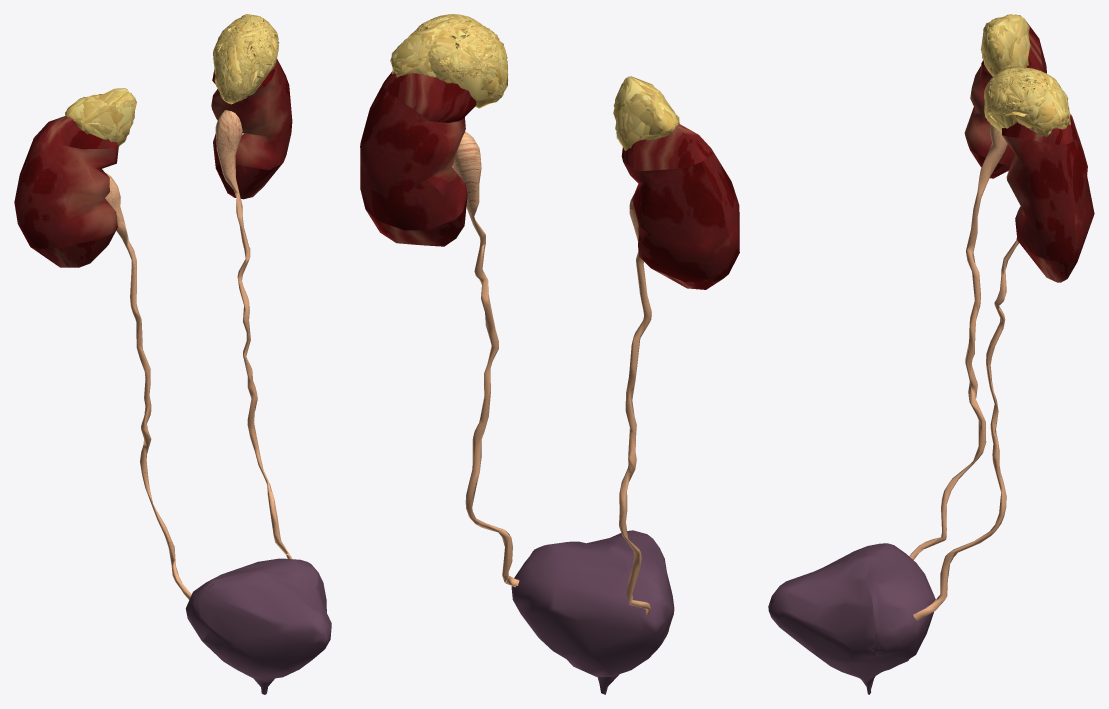
The model's file is adrenal.glb.
The picture shows the model from 3 angles, left to right: view 1: azimuth 30°, elevation 25°; view 2: azimuth 150°, elevation 25°; view 3: azimuth 270°, elevation 25°; orthographic projection. The views are drawn at different scales.
Parts seen in each view (by area): view 1: L_Kidney_Kidney_0, Bladder_1_Bladder_0, R_Gland_Glands_0, L_Ureter_Ureters_0; view 2: L_Kidney_Kidney_0, Bladder_1_Bladder_0, R_Gland_Glands_0, L_Ureter_Ureters_0; view 3: Bladder_1_Bladder_0, L_Kidney_Kidney_0, R_Gland_Glands_0, L_Ureter_Ureters_0.
Boxes of the visible parts, left/top/right/bottom form: L_Kidney_Kidney_0: left=14, top=59, right=292, bottom=267; Bladder_1_Bladder_0: left=185, top=558, right=331, bottom=694; R_Gland_Glands_0: left=65, top=14, right=279, bottom=146; L_Ureter_Ureters_0: left=105, top=110, right=292, bottom=599; L_Kidney_Kidney_0: left=360, top=72, right=739, bottom=289; Bladder_1_Bladder_0: left=511, top=530, right=674, bottom=694; R_Gland_Glands_0: left=390, top=14, right=679, bottom=150; L_Ureter_Ureters_0: left=452, top=131, right=651, bottom=615; Bladder_1_Bladder_0: left=768, top=543, right=935, bottom=694; L_Kidney_Kidney_0: left=964, top=22, right=1094, bottom=282; R_Gland_Glands_0: left=980, top=14, right=1070, bottom=136; L_Ureter_Ureters_0: left=909, top=124, right=1018, bottom=620.
Size of the model in its own units: 0.3026 by 0.6 by 0.2711.
4 materials, 3 textured.
